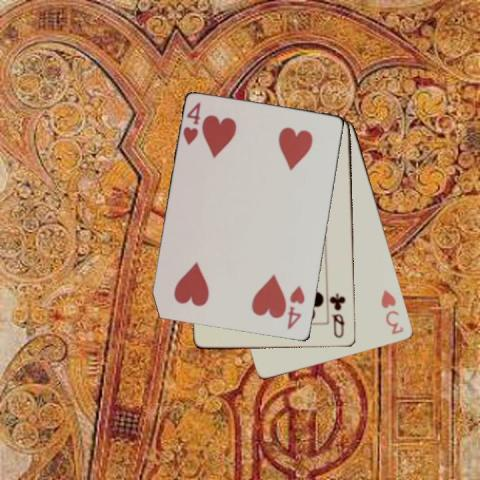3h: (378, 286, 405, 336)
4h: (284, 283, 306, 331), (181, 99, 202, 147)
Qc: (329, 291, 347, 339)
